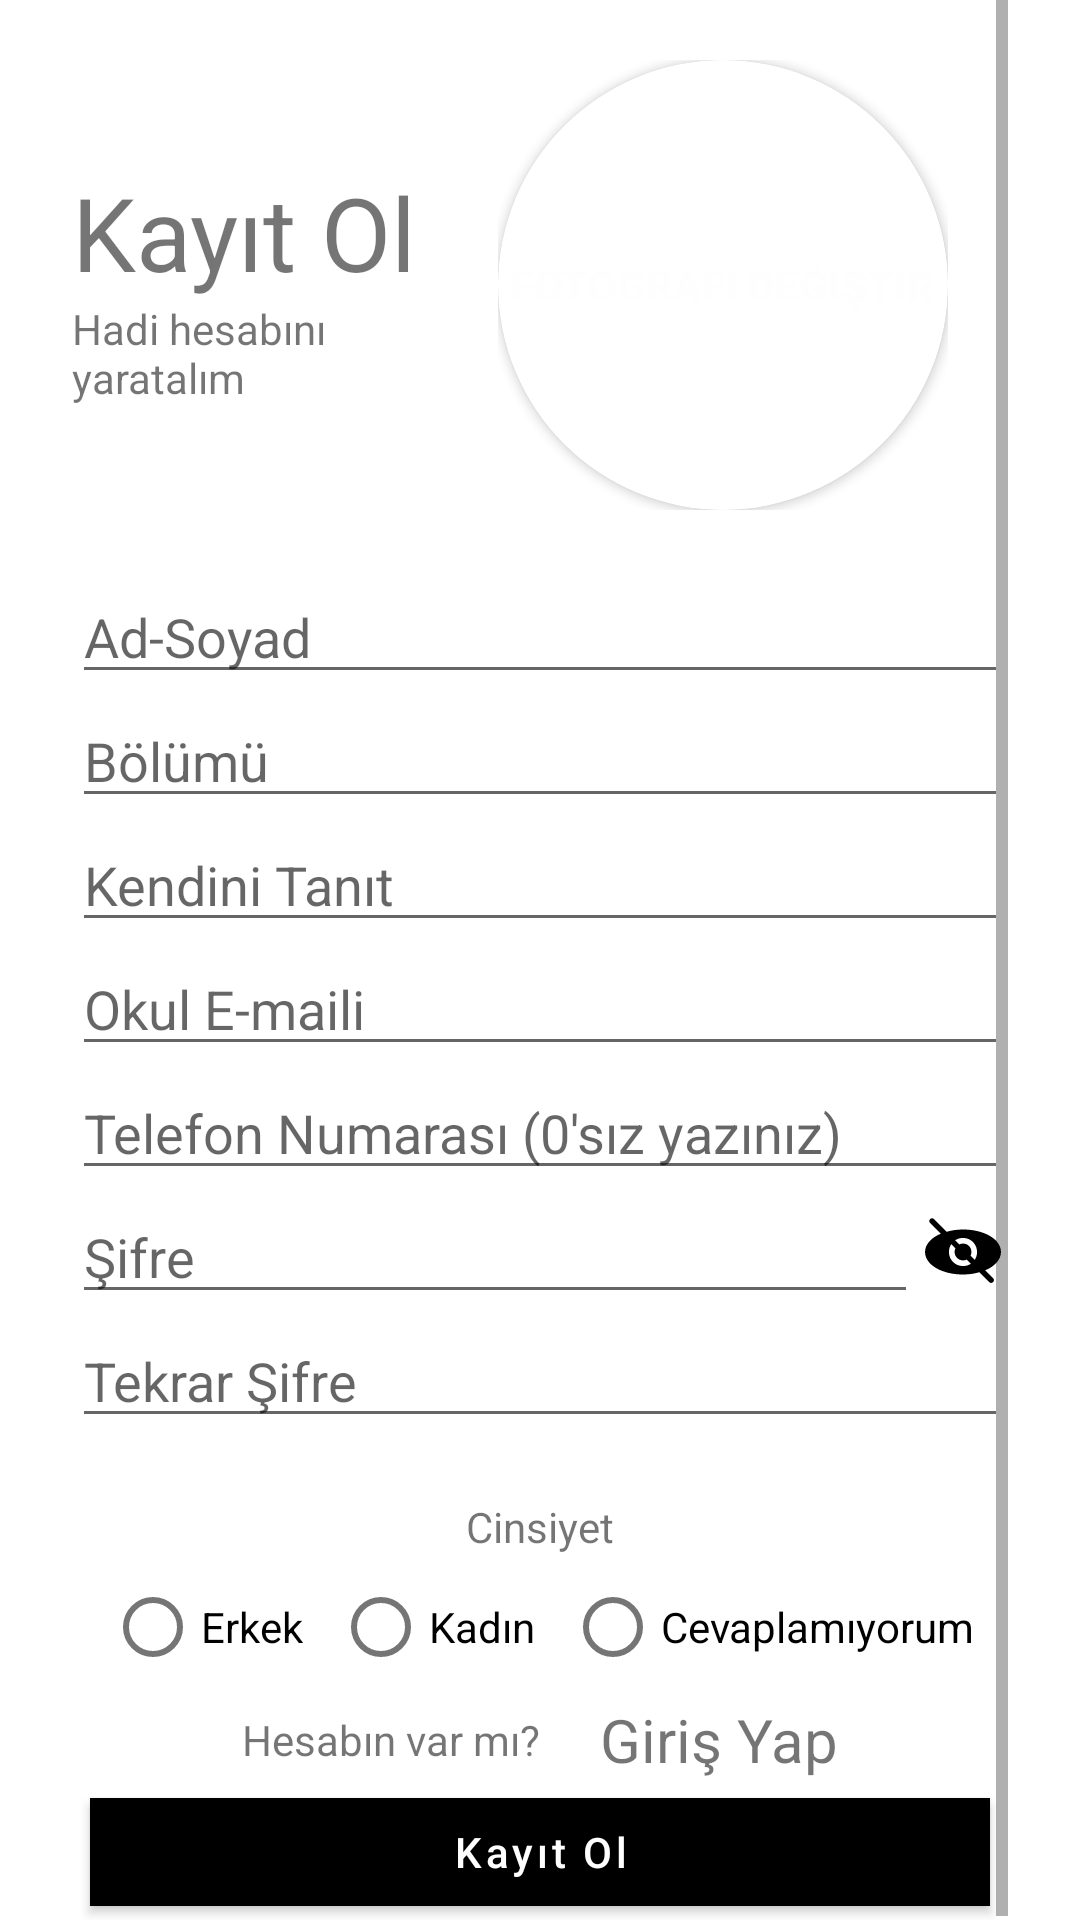

Locate icon controls on the screen. Image size 1080*1920, boxes as (x1, y1, x2, y2).
hide: (925, 1190, 1008, 1314)
